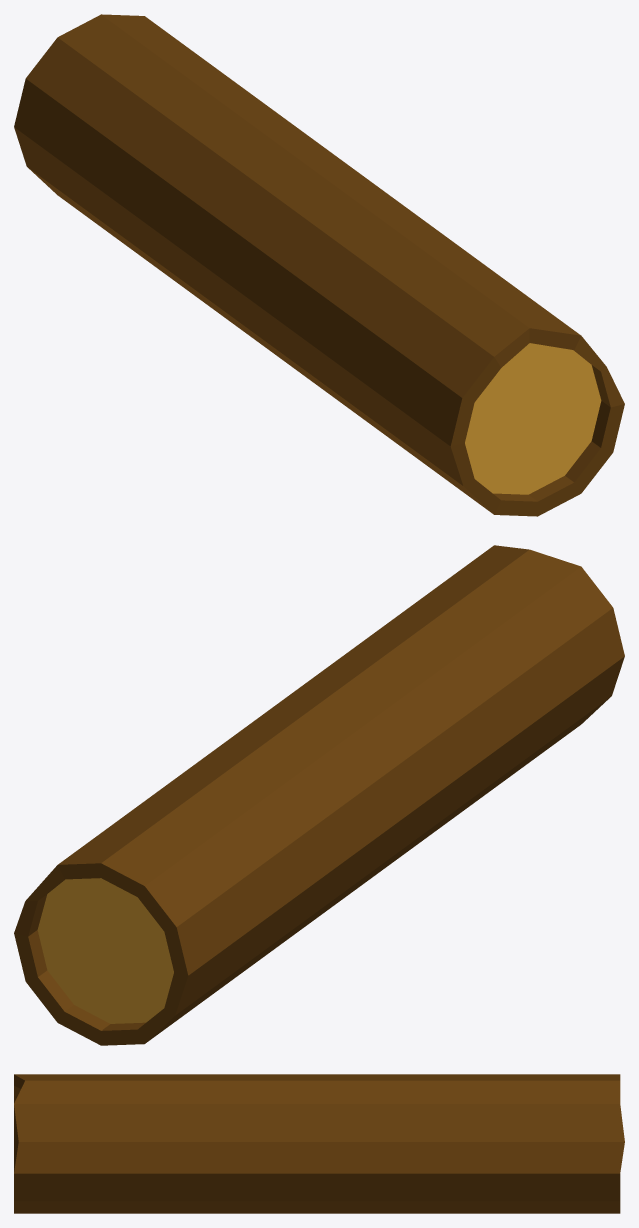
File: Log.fbx
The picture shows the model from 3 angles, top to bottom: view 1: azimuth 30°, elevation 25°; view 2: azimuth 150°, elevation 25°; view 3: azimuth 270°, elevation 25°; orthographic projection. The views are drawn at different scales.
Visible parts, largest first — view 1: Cylinder; view 2: Cylinder; view 3: Cylinder.
Part boxes in pixels (x1=…): Cylinder: x1=14, y1=14, x2=624, y2=516; Cylinder: x1=14, y1=545, x2=624, y2=1045; Cylinder: x1=14, y1=1074, x2=624, y2=1213.
Size of the model in its own units: 200 by 200 by 874.
